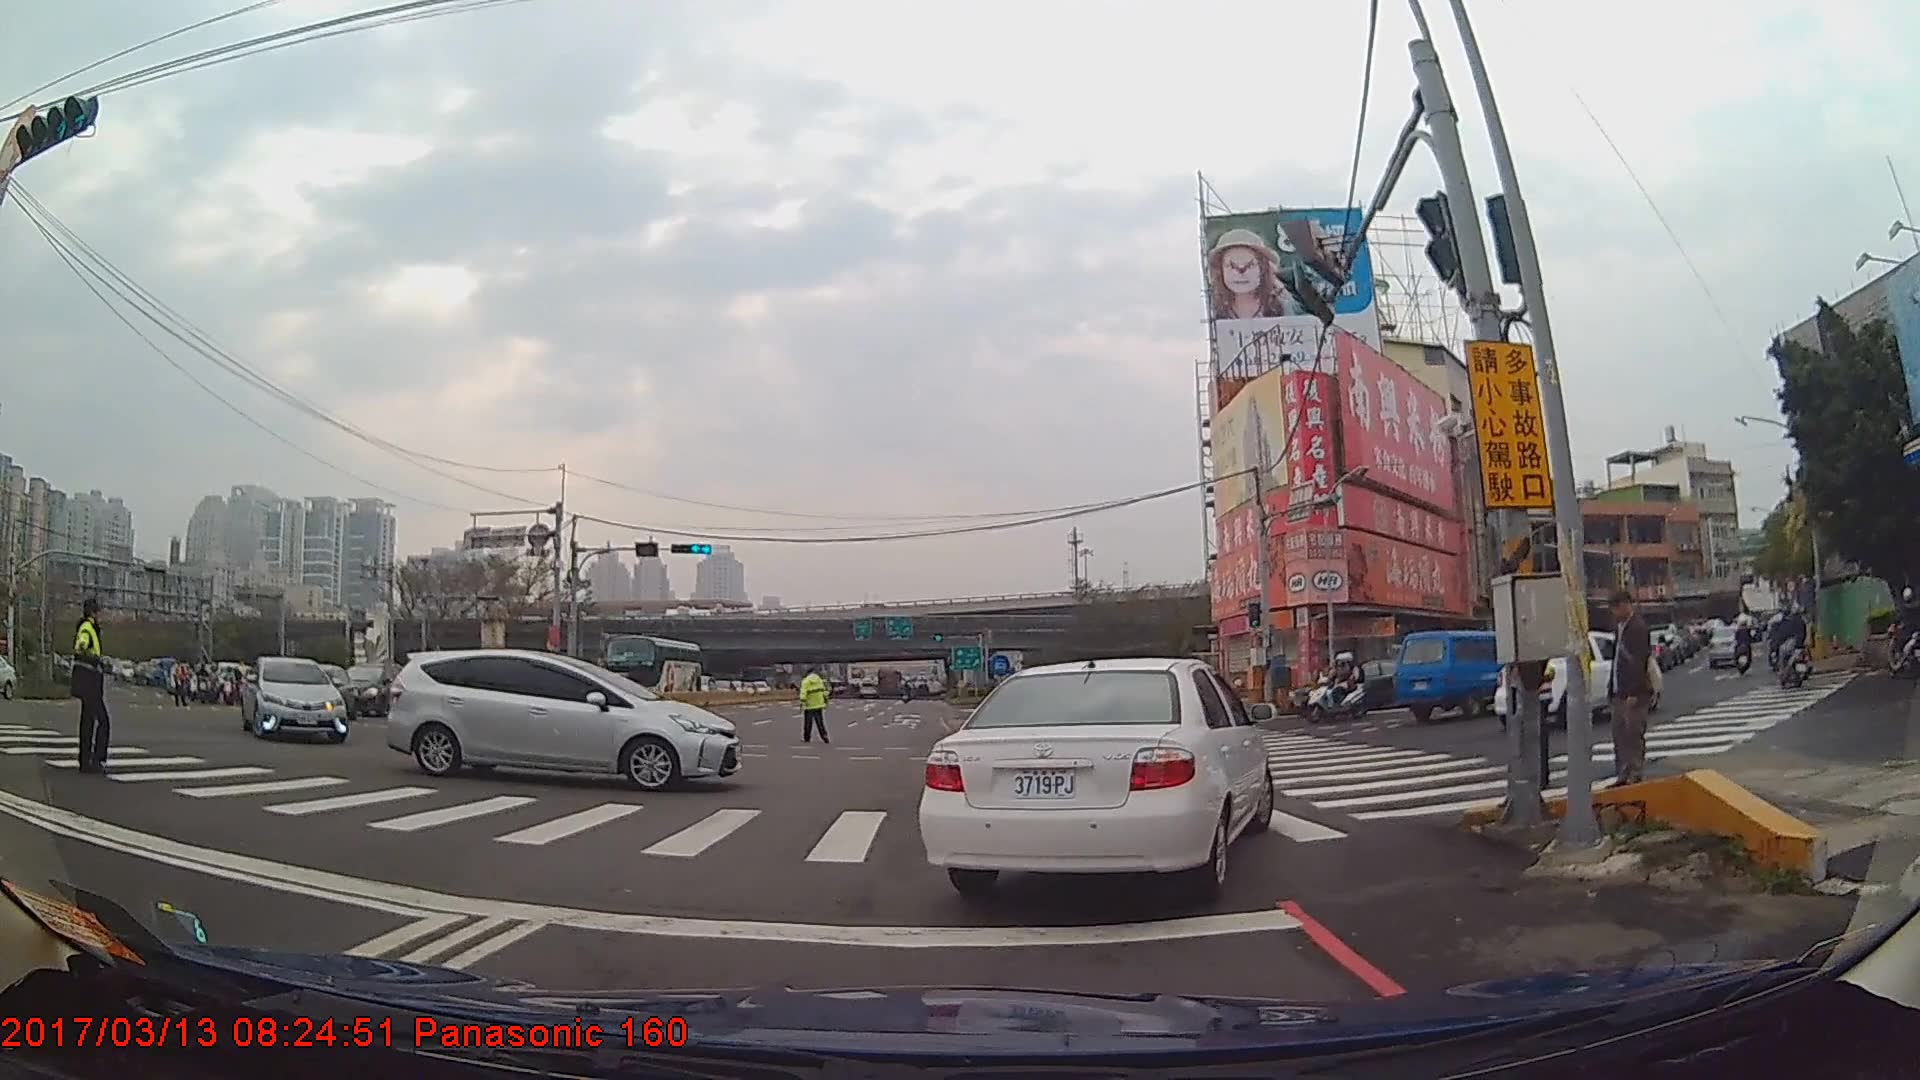pedestrian: (1592, 575, 1665, 803), (62, 594, 112, 782), (796, 662, 835, 745)
rider: (1303, 653, 1367, 728), (1884, 584, 1920, 679), (1775, 605, 1811, 690), (1792, 607, 1820, 683), (1733, 615, 1754, 679)
vehicle: (917, 656, 1274, 898), (383, 647, 741, 792), (1485, 629, 1658, 727), (1395, 628, 1550, 722), (239, 654, 349, 743), (598, 633, 701, 700), (1703, 623, 1749, 670)
